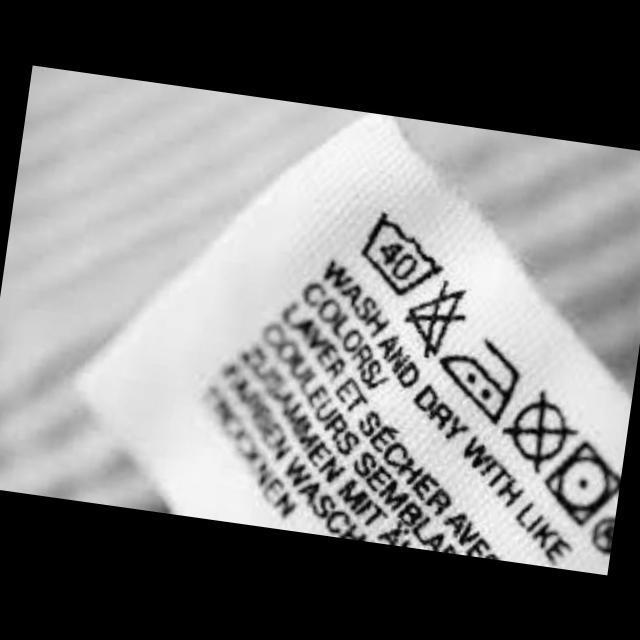40C: (350, 202, 456, 308)
DN_bleach: (396, 272, 476, 366)
DN_dry_clean: (494, 379, 588, 481)
iron_medium: (428, 326, 532, 432)
tumble_dry_low: (532, 430, 626, 538)
